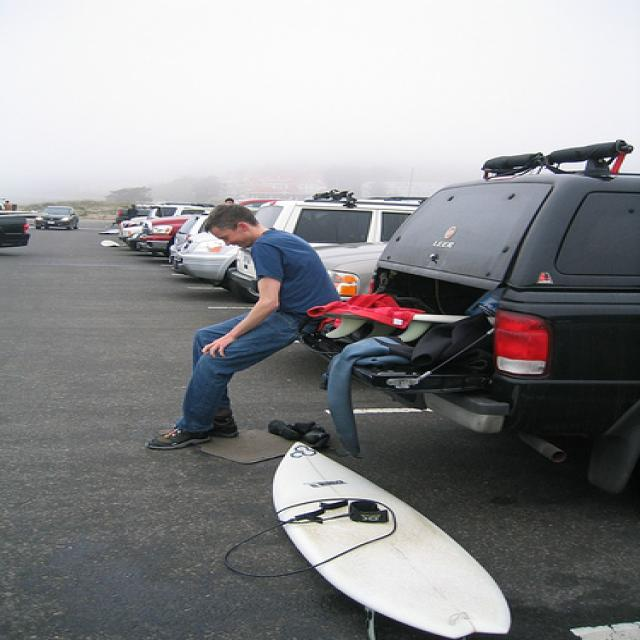Vehicle: (300, 139, 640, 496), (325, 141, 640, 494), (229, 198, 426, 287), (232, 202, 414, 298), (160, 203, 266, 292), (136, 199, 282, 257), (169, 213, 260, 302), (34, 205, 80, 230), (2, 215, 33, 248), (0, 215, 30, 248)
